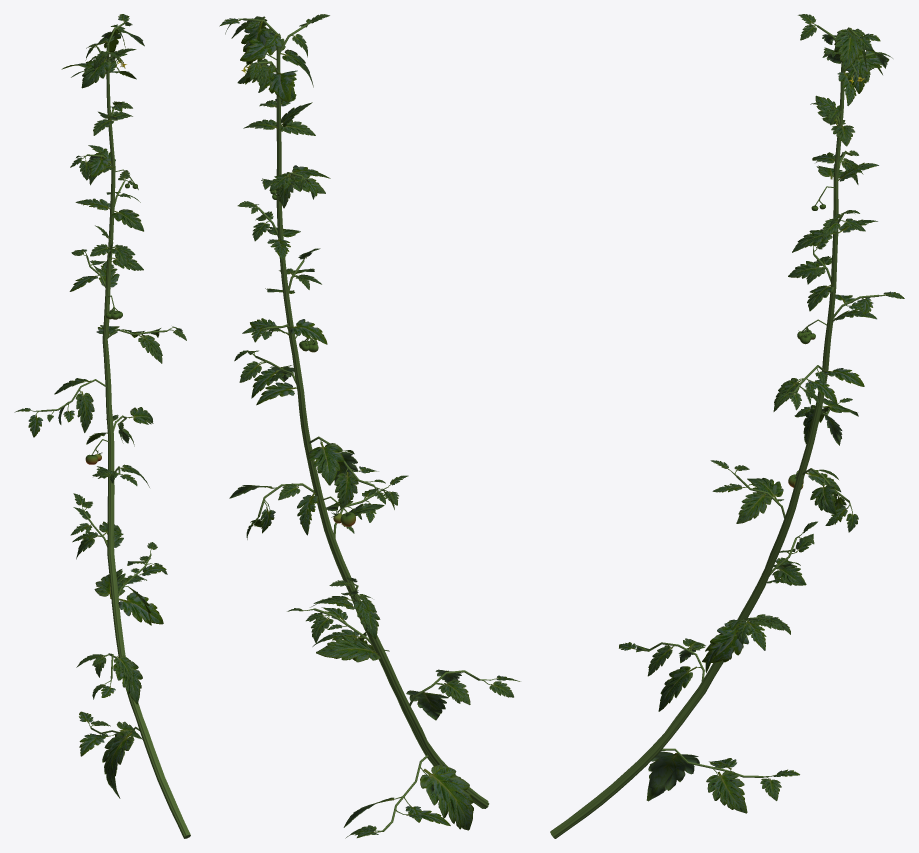
File: tomato_stem_008.glb
3 views of the same model, side by side, from view 1: azimuth 30°, elevation 25°; view 2: azimuth 150°, elevation 25°; view 3: azimuth 270°, elevation 25° (orthographic). The views are drawn at different scales.
Parts seen in each view (by area): view 1: tomato_stem_008; view 2: tomato_stem_008; view 3: tomato_stem_008.
Part boxes in pixels (x1=…): tomato_stem_008: x1=14, y1=14, x2=190, y2=838; tomato_stem_008: x1=219, y1=14, x2=520, y2=838; tomato_stem_008: x1=550, y1=14, x2=904, y2=838.
Bounding box in the file's own units: 0.431 × 1.87 × 0.7124.
12 materials, 11 textured.
